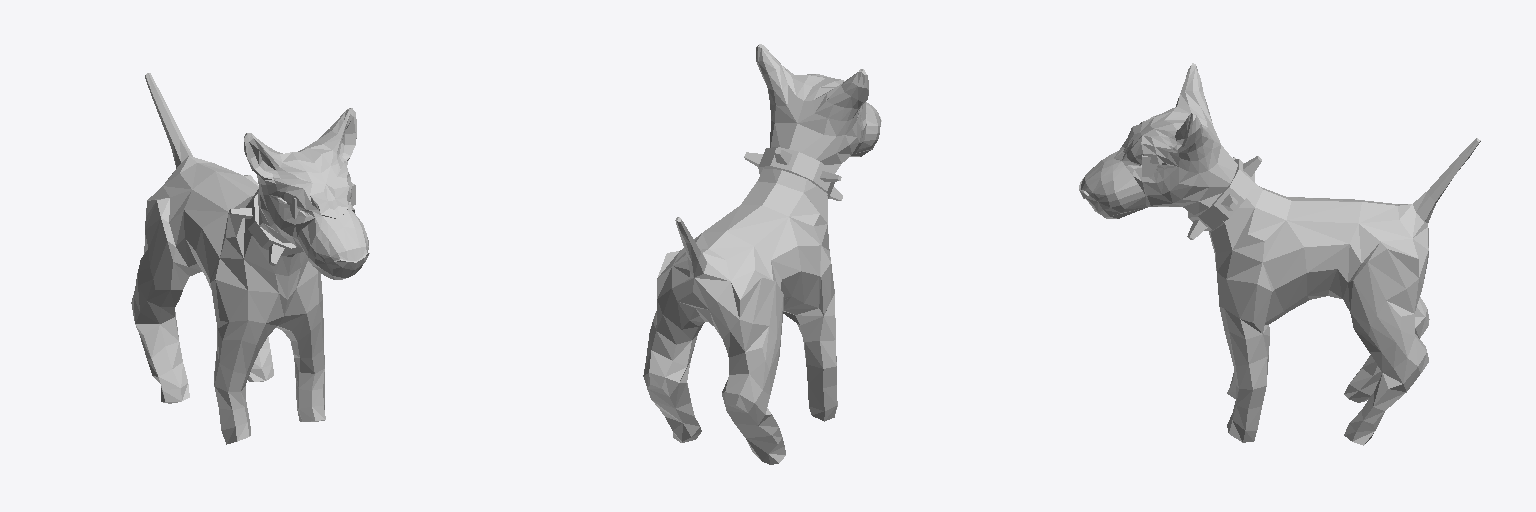
File: dog.obj
The picture shows the model from 3 angles: view 1: azimuth 30°, elevation 25°; view 2: azimuth 150°, elevation 25°; view 3: azimuth 270°, elevation 25°; orthographic projection.
Bounding box in the file's own units: 0.922 × 2.47 × 2.68.